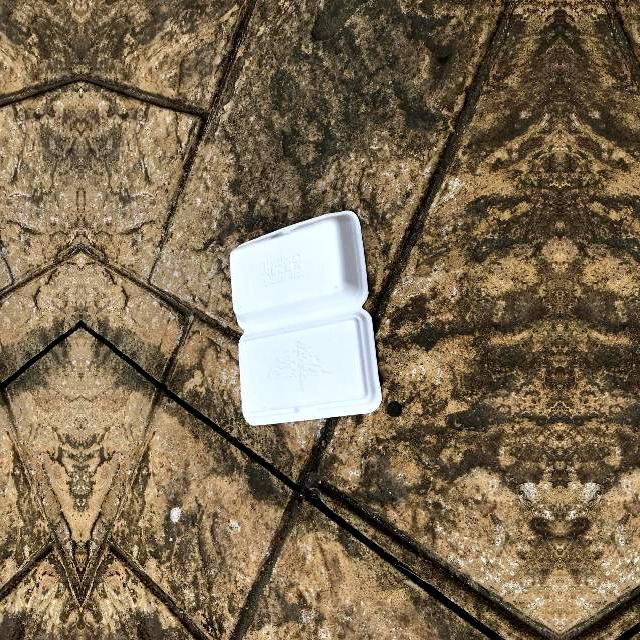Styrofoam: (227, 210, 383, 428), (229, 211, 382, 426)
